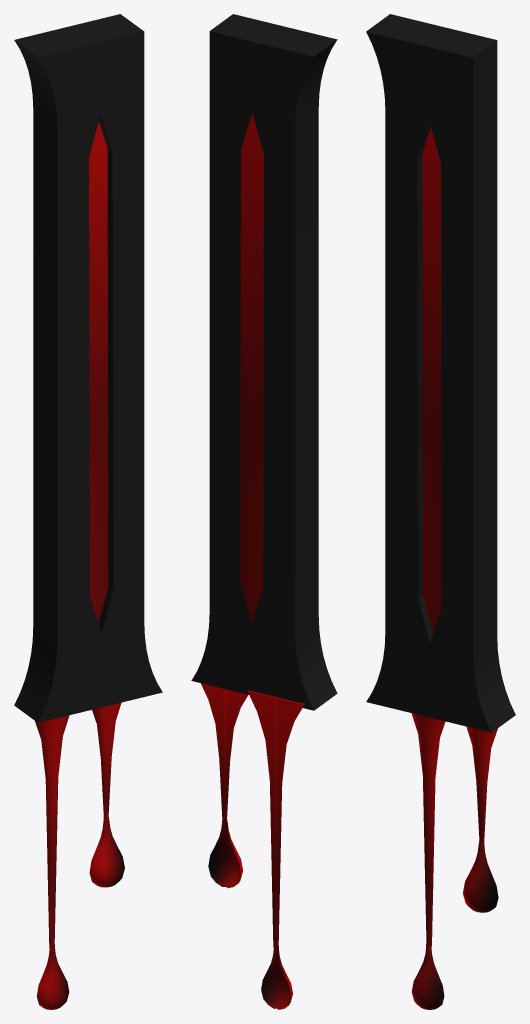
3 renders of one model, left to right at view 1: azimuth 30°, elevation 25°; view 2: azimuth 150°, elevation 25°; view 3: azimuth 330°, elevation 25°, orthographic. The views are drawn at different scales.
Parts seen in each view (by area): view 1: 1, 1_Element, Blood_297, Blood_298; view 2: 1, 1_Element, Blood_297, Blood_298; view 3: 1, 1_Element, Blood_297, Blood_298.
Boxes of the visible parts, x1=… form: 1: x1=14, y1=14, x2=162, y2=722; 1_Element: x1=89, y1=121, x2=108, y2=623; Blood_297: x1=35, y1=715, x2=69, y2=1009; Blood_298: x1=89, y1=702, x2=124, y2=887; 1: x1=191, y1=14, x2=337, y2=710; 1_Element: x1=240, y1=113, x2=263, y2=622; Blood_297: x1=247, y1=690, x2=304, y2=1009; Blood_298: x1=200, y1=683, x2=248, y2=888; 1: x1=366, y1=14, x2=515, y2=732; 1_Element: x1=422, y1=127, x2=441, y2=632; Blood_297: x1=411, y1=713, x2=445, y2=1009; Blood_298: x1=463, y1=726, x2=498, y2=912.
Bounding box in the file's own units: 15.06 × 113 × 5.16.
2 materials, 1 textured.
